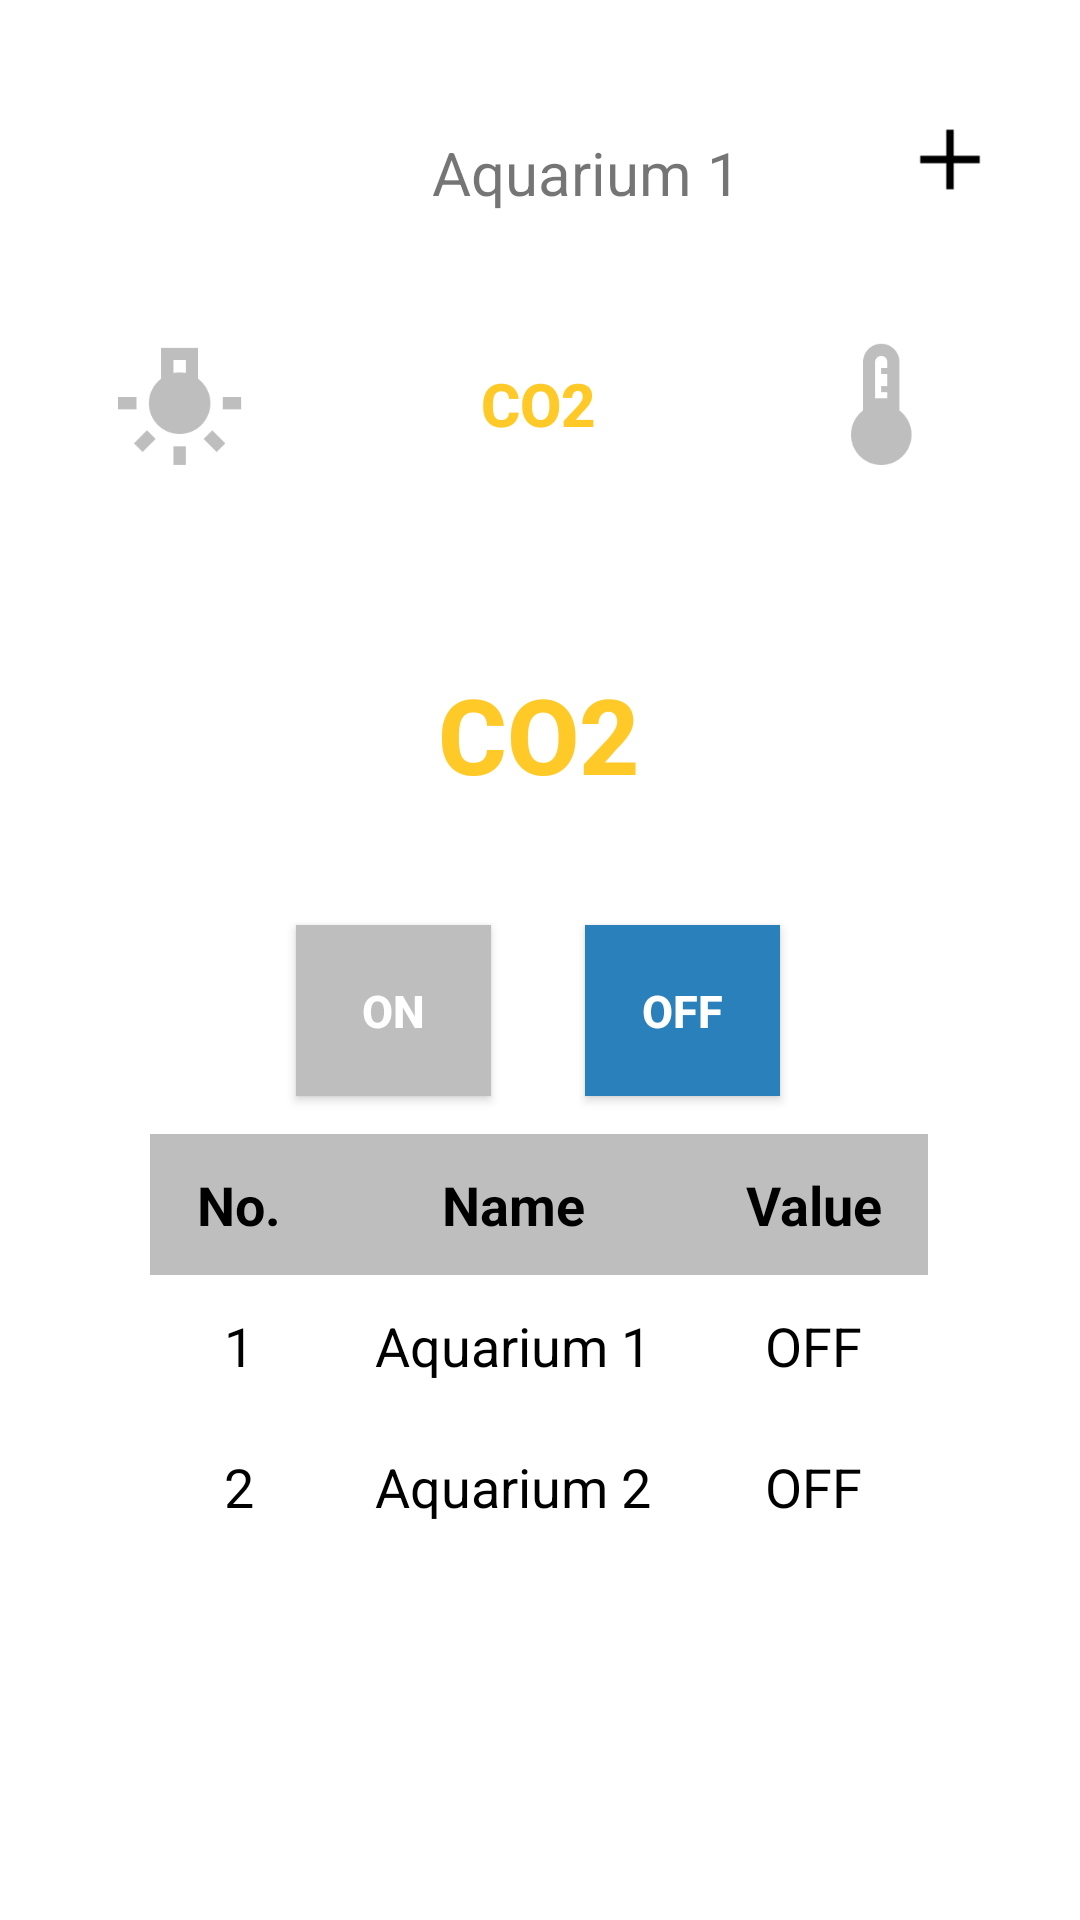

Icon bounding boxes for this 1080 × 1920 phone screenshot, format (x1, y1, x2, y2):
led: (118, 348, 241, 465)
plus: (919, 129, 981, 190)
